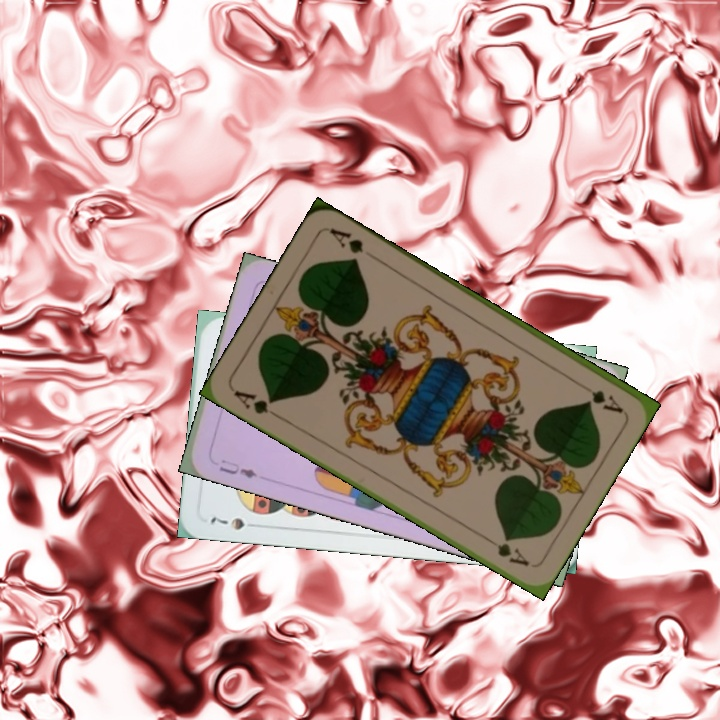EU: (215, 455, 260, 481)
GA: (229, 386, 283, 422), (587, 386, 626, 416)
S7: (206, 513, 262, 532)
